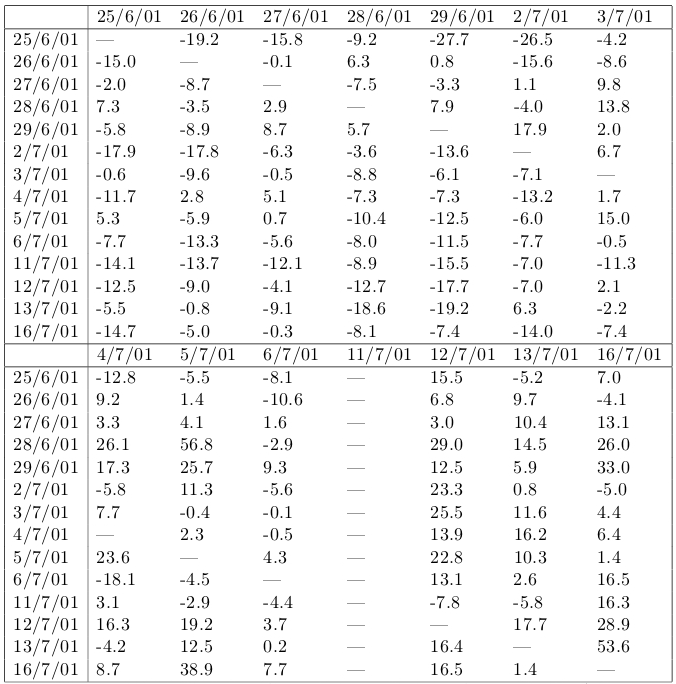column: (575, 1, 674, 684), (413, 1, 500, 684), (247, 1, 333, 684), (2, 1, 87, 682), (164, 2, 248, 682), (333, 1, 415, 684), (498, 1, 575, 684), (87, 2, 163, 683)
row: (1, 320, 676, 346), (1, 162, 676, 187), (1, 658, 675, 683), (1, 365, 676, 389), (1, 634, 676, 658), (1, 253, 675, 277), (1, 344, 676, 367), (1, 52, 675, 75), (1, 95, 675, 118), (1, 455, 675, 478), (1, 478, 675, 501), (2, 29, 675, 52), (1, 208, 674, 231), (2, 389, 675, 412), (2, 411, 675, 434), (1, 547, 674, 570), (1, 503, 673, 526), (1, 277, 676, 299), (1, 300, 676, 322), (1, 138, 675, 160), (1, 526, 675, 548), (1, 613, 675, 635), (2, 186, 675, 208), (2, 232, 674, 254), (1, 76, 676, 97), (2, 593, 675, 614), (3, 570, 673, 591), (1, 435, 675, 455), (1, 119, 676, 138)
